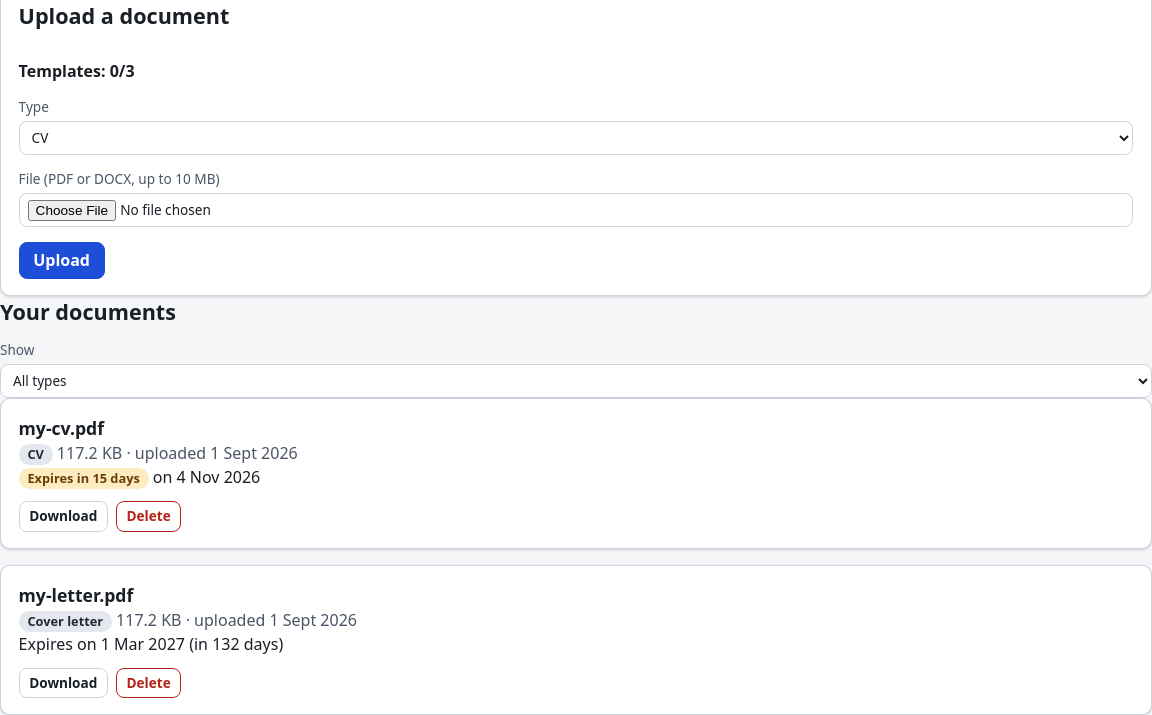
Test case: DocumentsPage › deletes a document after confirming and reloads
The image size is (1152, 715).
(page scrolled)
Click the button with aria-label "Delete my-cv.pdf": (149, 516) [116, 501, 181, 532]
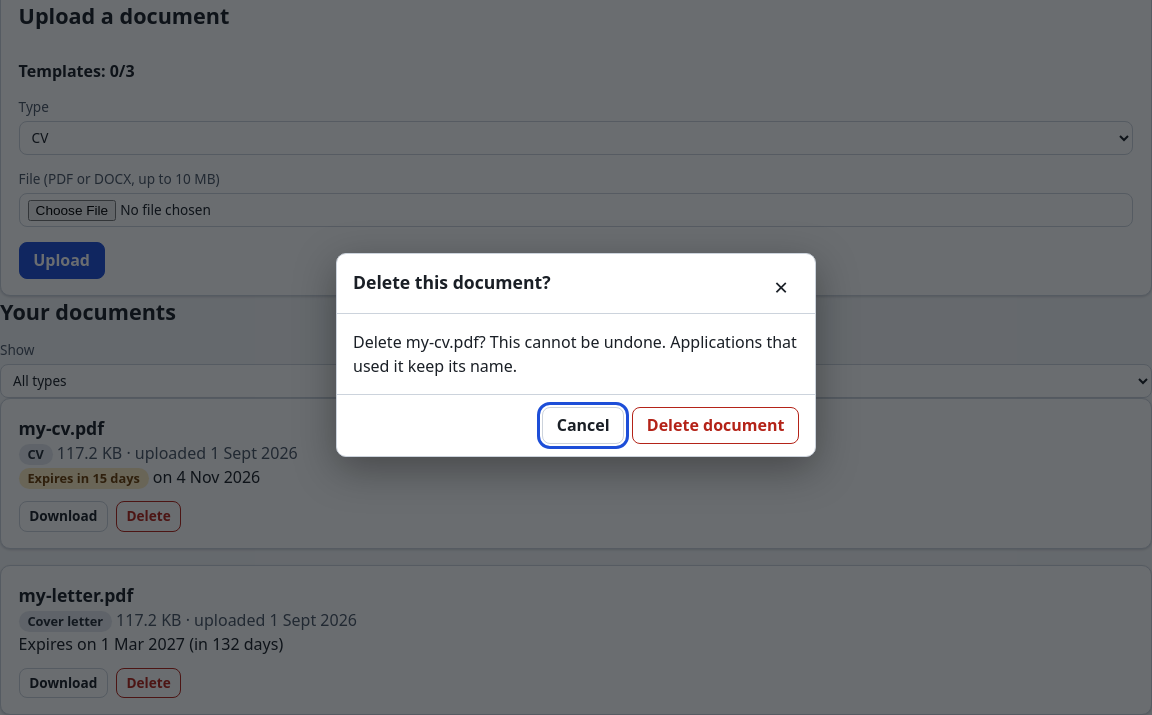
Click the button "Delete document": (716, 425) [632, 407, 799, 444]
(page scrolled)
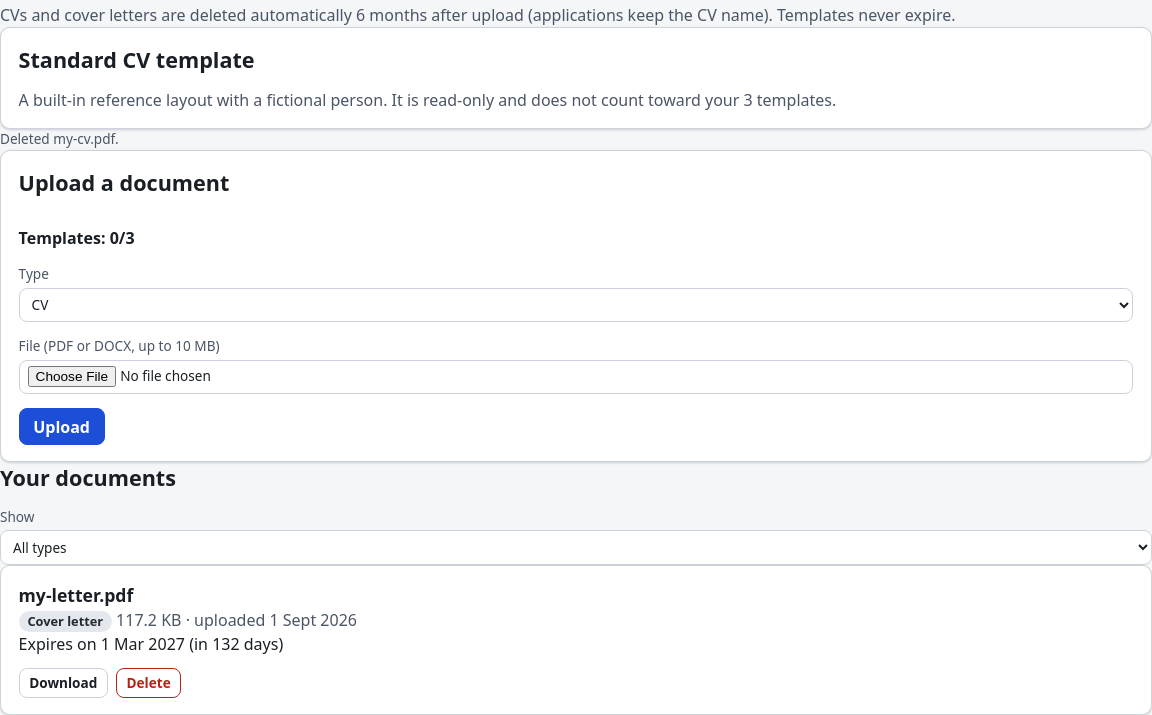
Expected: the dialog is gone
